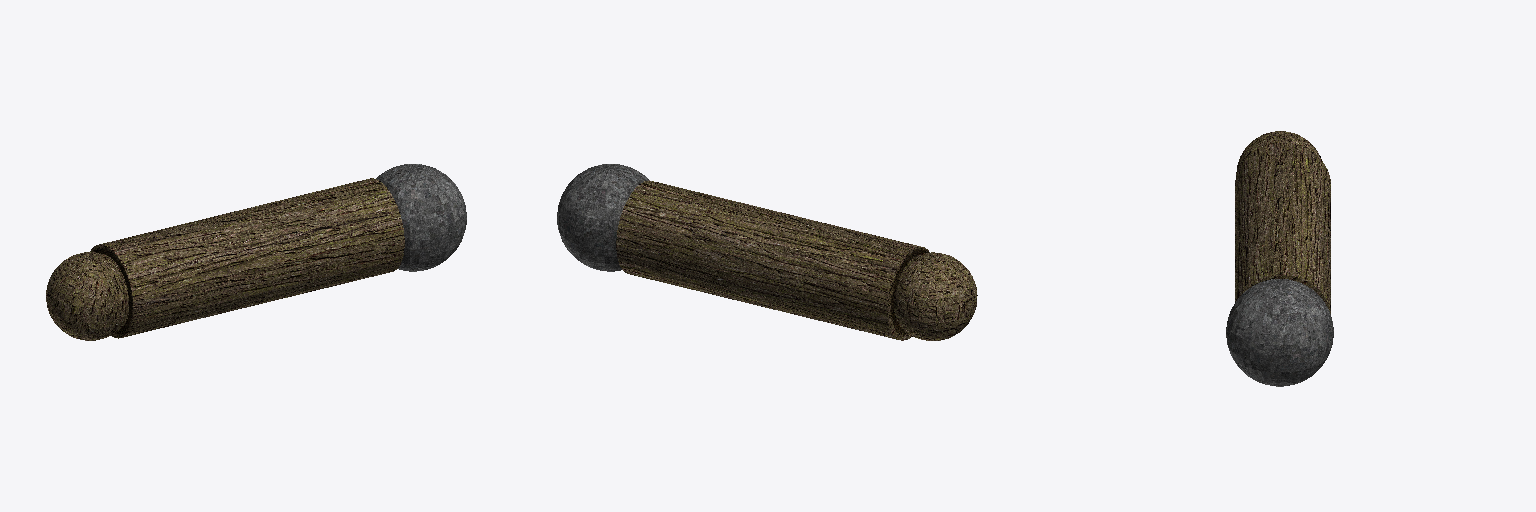
The picture shows the model from 3 angles: view 1: azimuth 30°, elevation 25°; view 2: azimuth 150°, elevation 25°; view 3: azimuth 270°, elevation 25°; orthographic projection.
Parts seen in each view (by area): view 1: Limb1_Cylinder.001, Sphere.001, Sphere; view 2: Limb1_Cylinder.001, Sphere.001, Sphere; view 3: Limb1_Cylinder.001, Sphere.001, Sphere.
Boxes of the visible parts, x1,y1,x2,y2 form: Limb1_Cylinder.001: [90, 178, 404, 338]; Sphere.001: [376, 164, 466, 271]; Sphere: [46, 252, 128, 340]; Limb1_Cylinder.001: [616, 180, 929, 340]; Sphere.001: [557, 164, 648, 271]; Sphere: [894, 252, 977, 340]; Limb1_Cylinder.001: [1235, 143, 1330, 313]; Sphere.001: [1226, 279, 1333, 386]; Sphere: [1236, 131, 1321, 174].
Size of the model in its own units: 0.9643 by 0.2214 by 0.2214.
3 materials, 3 textured.